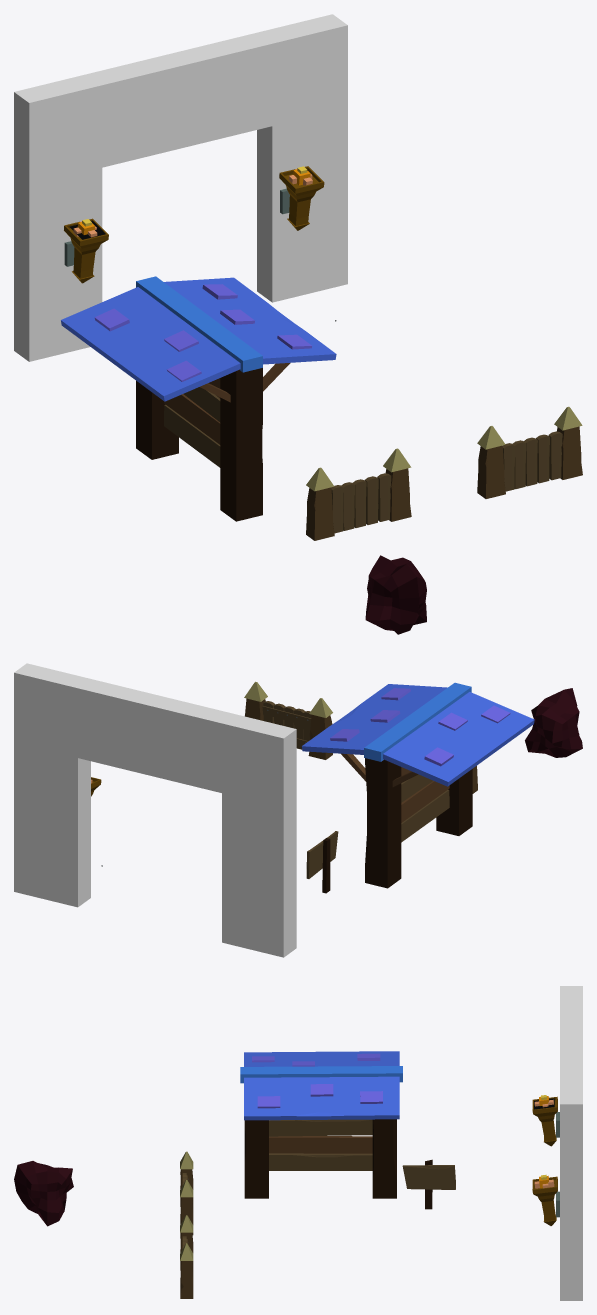
File: Environment.fbx
The picture shows the model from 3 angles, top to bottom: view 1: azimuth 30°, elevation 25°; view 2: azimuth 150°, elevation 25°; view 3: azimuth 270°, elevation 25°; orthographic projection. The views are drawn at different scales.
Visible parts, largest first — view 1: Cube, MailPost, Fence.001, Fence, Rock, Torch, Torch(!); view 2: Cube, MailPost, Rock, Fence.001, Sign; view 3: MailPost, Cube, Rock, Sign, Fence.001, Fence, Torch, Torch(!).
Part boxes in pixels (bbox=[...]): Cube: bbox=[14, 14, 347, 361]; MailPost: bbox=[61, 276, 336, 521]; Fence.001: bbox=[477, 406, 582, 498]; Fence: bbox=[306, 448, 411, 540]; Rock: bbox=[365, 555, 426, 634]; Torch: bbox=[279, 166, 324, 230]; Torch(!): bbox=[64, 218, 108, 283]; Cube: bbox=[14, 663, 296, 957]; MailPost: bbox=[302, 682, 534, 888]; Rock: bbox=[525, 688, 582, 757]; Fence.001: bbox=[244, 681, 332, 759]; Sign: bbox=[306, 831, 338, 893]; MailPost: bbox=[240, 1051, 402, 1198]; Cube: bbox=[560, 986, 582, 1300]; Rock: bbox=[14, 1161, 73, 1226]; Sign: bbox=[402, 1159, 455, 1209]; Fence.001: bbox=[180, 1215, 193, 1298]; Fence: bbox=[180, 1151, 193, 1234]; Torch: bbox=[532, 1174, 557, 1225]; Torch(!): bbox=[532, 1095, 557, 1146].
Size of the model in its own units: 1024 by 719 by 1692.
